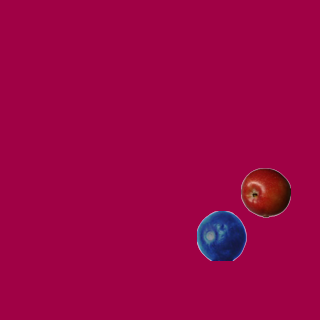Apple Braeburn: (240, 167, 290, 217)
Huckleberry: (196, 210, 246, 260)
